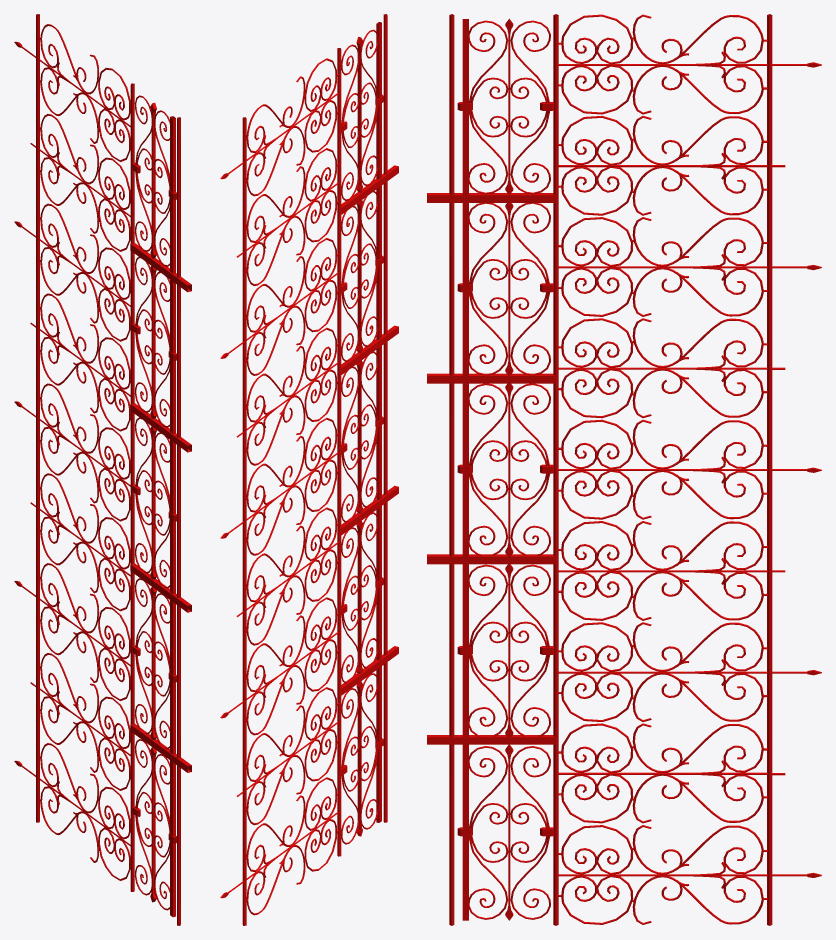
Rendered from SM_Park_Fence_02.FBX.
3 renders of one model, left to right at view 1: azimuth 30°, elevation 25°; view 2: azimuth 150°, elevation 25°; view 3: azimuth 270°, elevation 25°, orthographic. The views are drawn at different scales.
Visible parts, largest first — view 1: SM_Park_fence_02_LOD0; view 2: SM_Park_fence_02_LOD0; view 3: SM_Park_fence_02_LOD0.
Boxes of the visible parts, box(x1,y1,x2,y2) form: SM_Park_fence_02_LOD0: box(14, 14, 191, 925); SM_Park_fence_02_LOD0: box(220, 14, 398, 925); SM_Park_fence_02_LOD0: box(427, 14, 821, 925).
Size of what is drawn, in the model's own units: 2.04 by 143 by 364.
